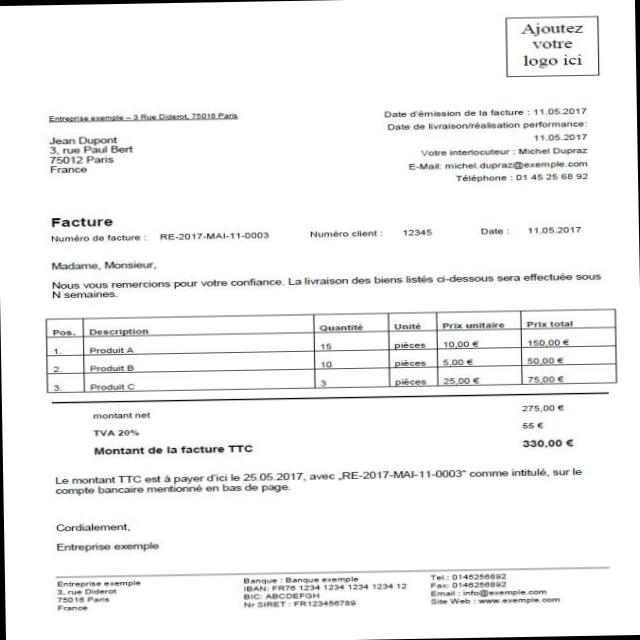customer_address: (46, 143, 138, 177)
customer_name: (46, 132, 120, 144)
invoice_date: (532, 101, 590, 120), (525, 222, 586, 236)
invoice_number: (154, 228, 274, 245)
invoice_subtotal: (516, 398, 572, 414)
invoice_total: (518, 434, 579, 452)
item_description: (86, 339, 158, 396)
item_quantity: (314, 336, 336, 392)
item_total_price: (524, 332, 573, 387)
item_unit_price: (439, 332, 499, 390)
supplier_address: (130, 108, 240, 125)
supplier_name: (242, 574, 370, 592), (44, 110, 124, 125)
tax_amount: (519, 417, 546, 432)
tax_rate: (116, 424, 141, 439)
